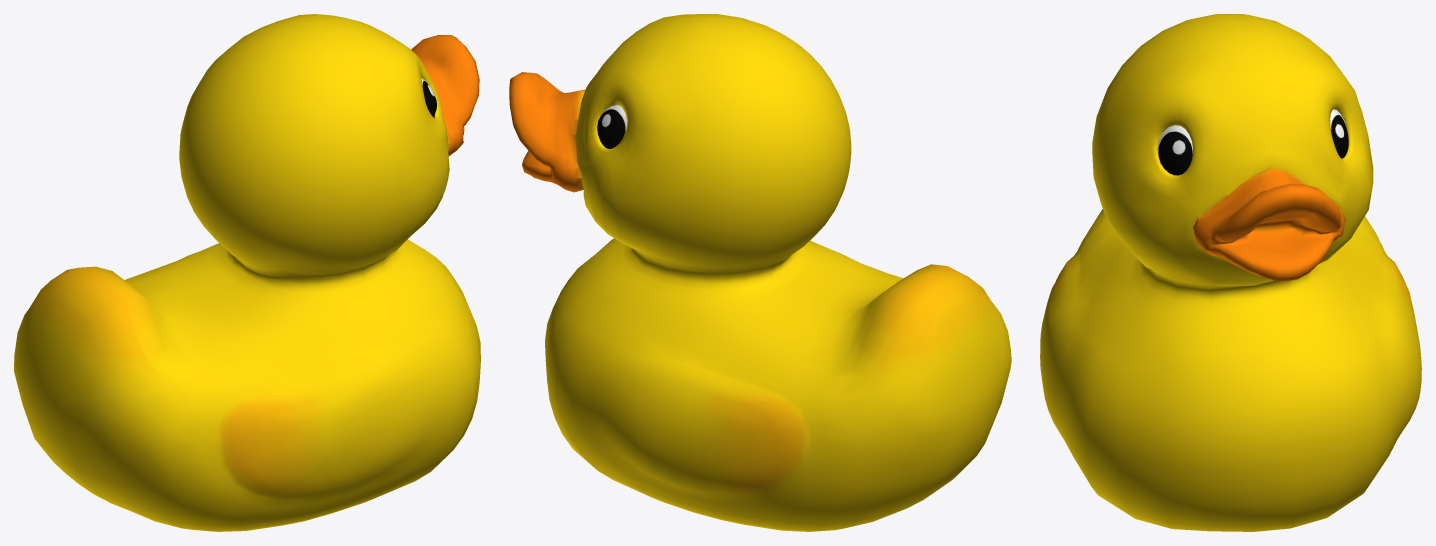
File: Duck.gltf
The picture shows the model from 3 angles, left to right: view 1: azimuth 30°, elevation 25°; view 2: azimuth 150°, elevation 25°; view 3: azimuth 270°, elevation 25°; orthographic projection. The views are drawn at different scales.
Parts seen in each view (by area): view 1: LOD3spShape; view 2: LOD3spShape; view 3: LOD3spShape.
Part boxes in pixels (bbox=[...]): LOD3spShape: bbox=[14, 14, 480, 531]; LOD3spShape: bbox=[509, 14, 1011, 531]; LOD3spShape: bbox=[1040, 14, 1421, 531].
Size of the model in its own units: 1.65 by 1.54 by 1.15.
